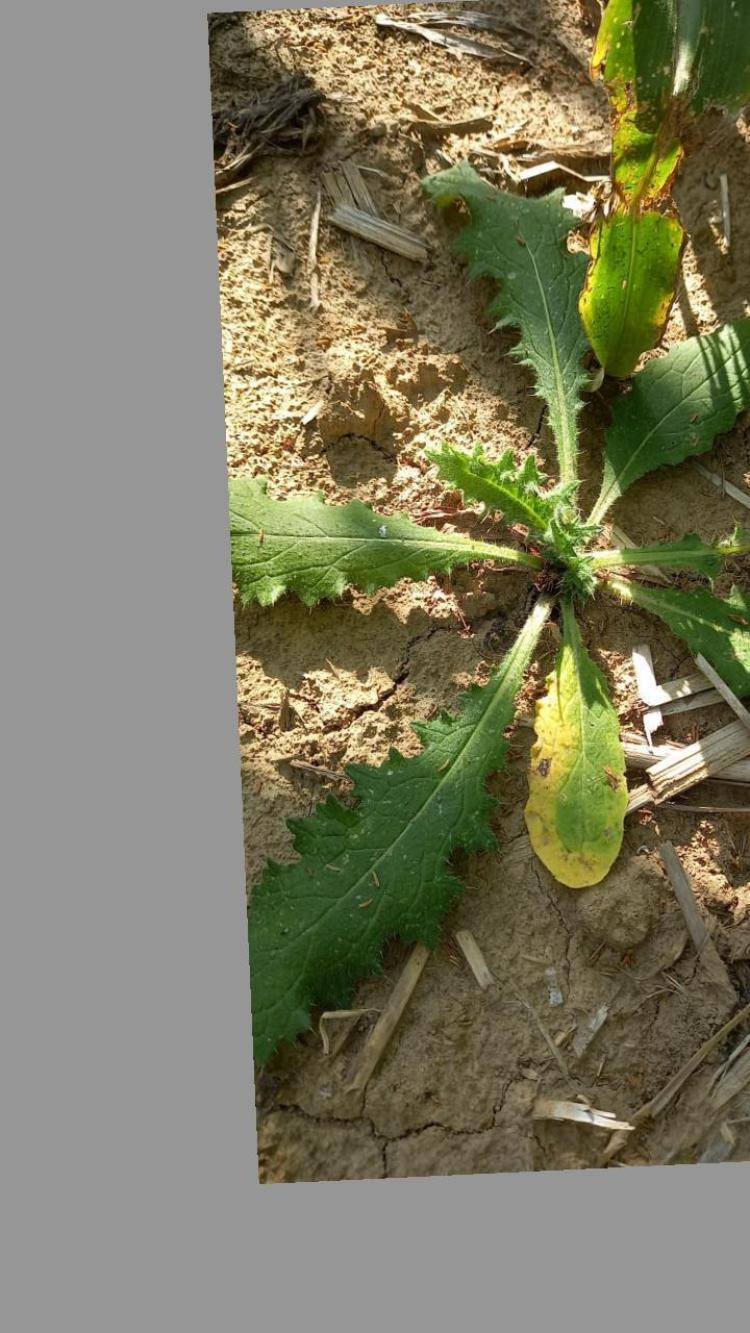osot: (227, 146, 750, 1075)
